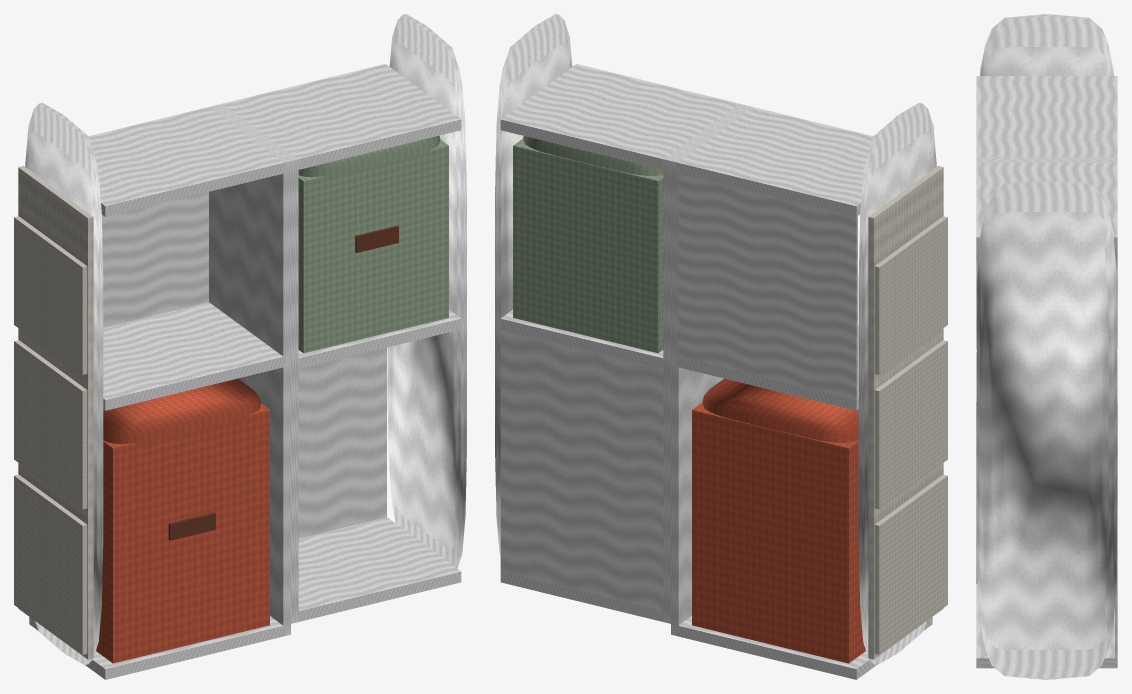
3 renders of one model, left to right at view 1: azimuth 30°, elevation 25°; view 2: azimuth 150°, elevation 25°; view 3: azimuth 270°, elevation 25°, orthographic. The views are drawn at different scales.
Parts seen in each view (by area): view 1: 13 orange_storage_bin, 16 green_storage_bin, 7 right_outer_panel, 5 left_inner_panel, 12 right_bottom_back_panel, 9 right_top_shelf, 2 left_top_shelf, 3 left_mid_shelf, 6 left_top_back_panel, 11 right_bottom_shelf, 1 left_outer_panel, 20 side_pocket_lower (+10 smaller); view 2: 12 right_bottom_back_panel, 13 orange_storage_bin, 6 left_top_back_panel, 16 green_storage_bin, 9 right_top_shelf, 2 left_top_shelf, 1 left_outer_panel, 20 side_pocket_lower, 7 right_outer_panel, 21 side_pocket_middle, 19 side_pocket_backing, 22 side_pocket_upper (+8 smaller); view 3: 7 right_outer_panel, 2 left_top_shelf, 1 left_outer_panel, 9 right_top_shelf, 8 right_inner_panel, 11 right_bottom_shelf, 5 left_inner_panel, 12 right_bottom_back_panel.
Boxes of the visible parts, x1,y1,x2,y2 form: 13 orange_storage_bin: (96, 403, 269, 663); 16 green_storage_bin: (298, 139, 448, 353); 7 right_outer_panel: (387, 14, 466, 568); 5 left_inner_panel: (209, 105, 290, 635); 12 right_bottom_back_panel: (298, 347, 386, 538); 9 right_top_shelf: (223, 64, 461, 169); 2 left_top_shelf: (88, 107, 285, 216); 3 left_mid_shelf: (103, 302, 285, 410); 6 left_top_back_panel: (102, 192, 208, 327); 11 right_bottom_shelf: (298, 517, 461, 621); 1 left_outer_panel: (25, 102, 103, 665); 20 side_pocket_lower: (14, 474, 87, 654); 12 right_bottom_back_panel: (500, 329, 663, 610); 13 orange_storage_bin: (692, 403, 865, 663); 6 left_top_back_panel: (676, 174, 857, 399); 16 green_storage_bin: (513, 138, 663, 353); 9 right_top_shelf: (500, 64, 738, 169); 2 left_top_shelf: (676, 107, 873, 216); 1 left_outer_panel: (858, 102, 936, 665); 20 side_pocket_lower: (874, 474, 947, 654); 7 right_outer_panel: (495, 14, 572, 555); 21 side_pocket_middle: (874, 340, 947, 509); 19 side_pocket_backing: (868, 166, 943, 659); 22 side_pocket_upper: (874, 216, 947, 374); 7 right_outer_panel: (976, 179, 1117, 679); 2 left_top_shelf: (976, 76, 1117, 156); 1 left_outer_panel: (980, 14, 1113, 75); 9 right_top_shelf: (976, 163, 1117, 247); 8 right_inner_panel: (976, 160, 1117, 584); 11 right_bottom_shelf: (976, 584, 1117, 668); 5 left_inner_panel: (976, 156, 1117, 159); 12 right_bottom_back_panel: (1115, 457, 1117, 658).
Bounding box in the file's own units: 0.8128 × 1.09 × 0.2794.
Materials: 5 (5 with a texture image).
